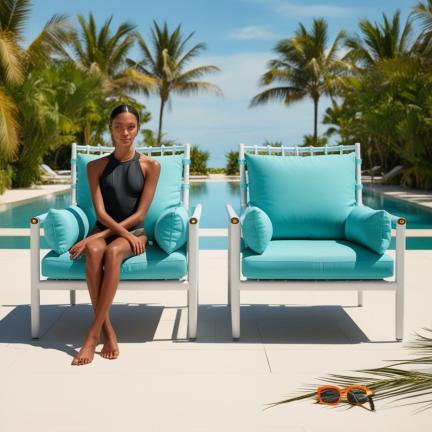empty chair: (226, 144, 406, 341)
guest on chair: (30, 105, 202, 365)
